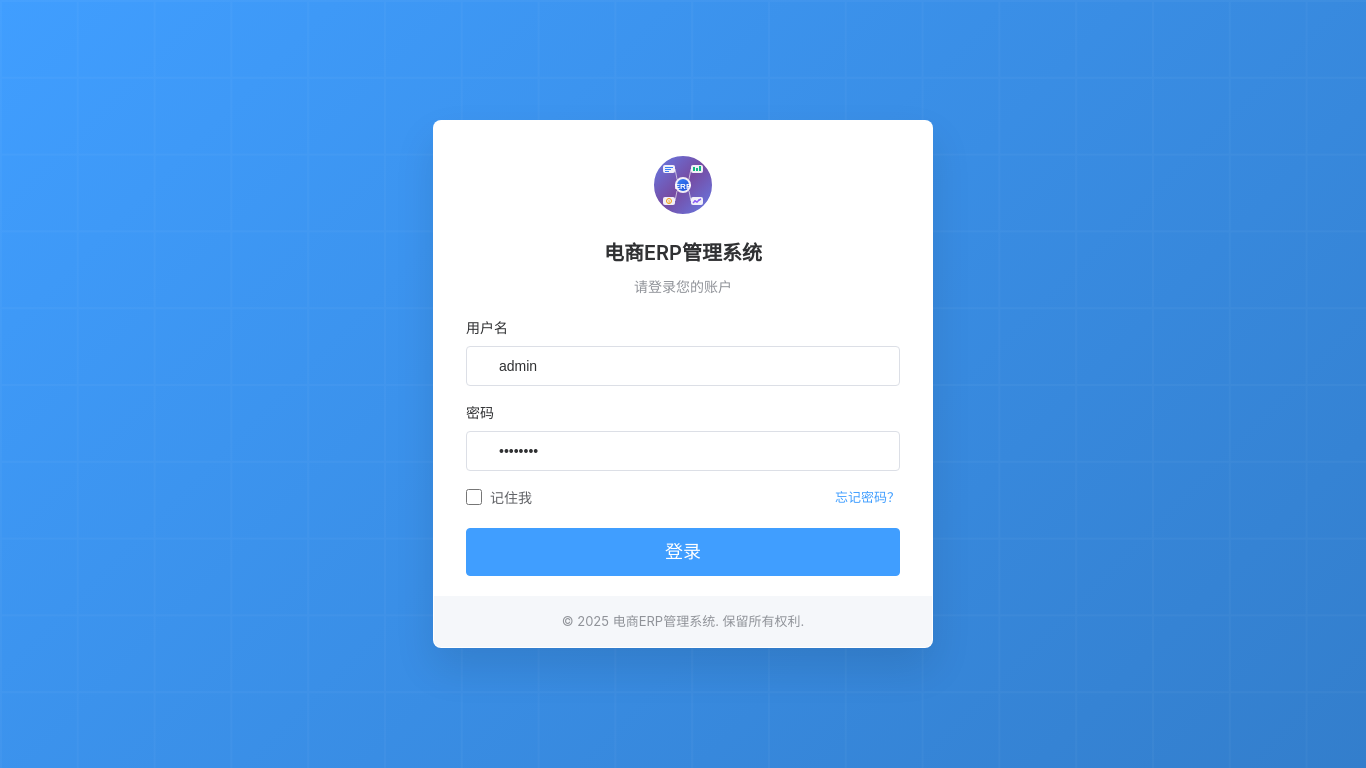
Test: LoginView › 应该验证用户名长度
This screenshot has width=1366, height=768.
# 设置过短的用户名
Step 1. Replace the text in the field named "username" with "ab" → (683, 366), box [466,346,900,386]
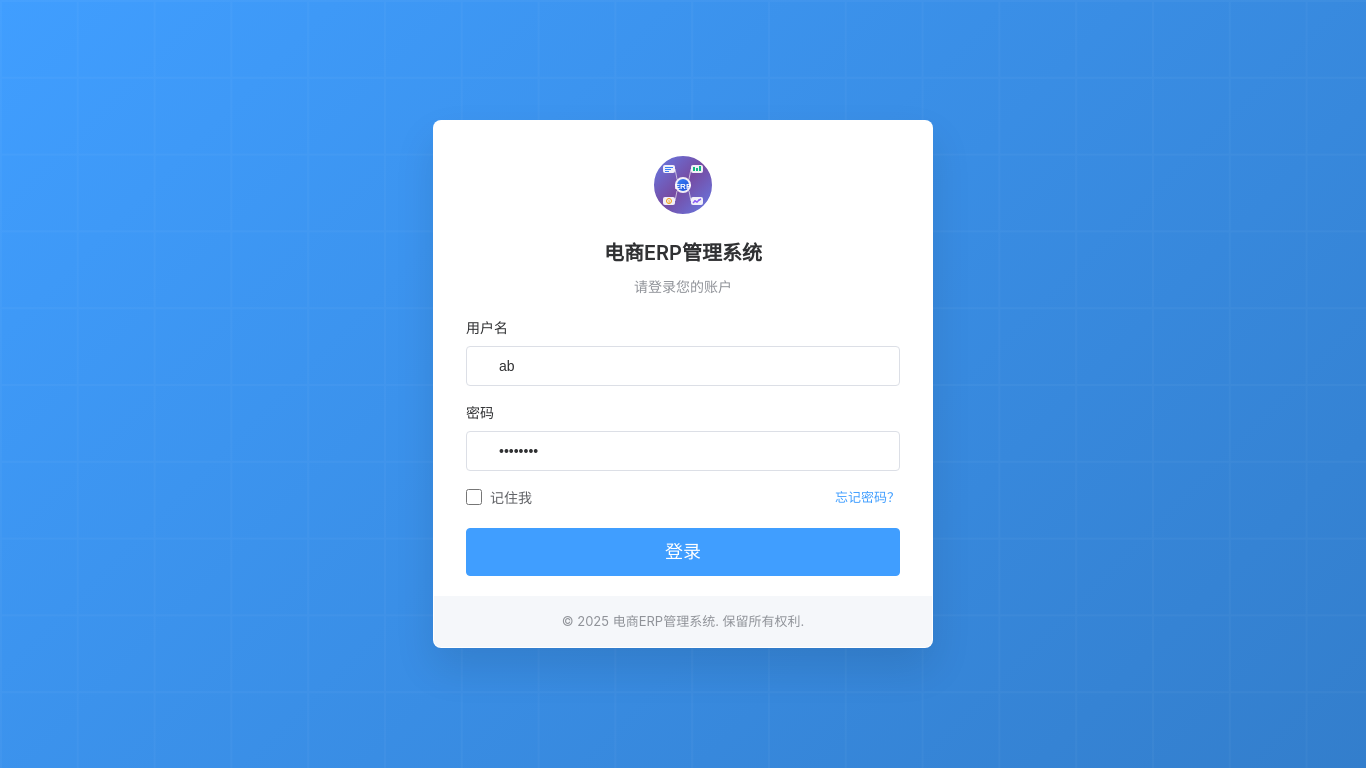
Step 2. Type "password123" into the password field named "password" → (683, 451), box [466,431,900,471]
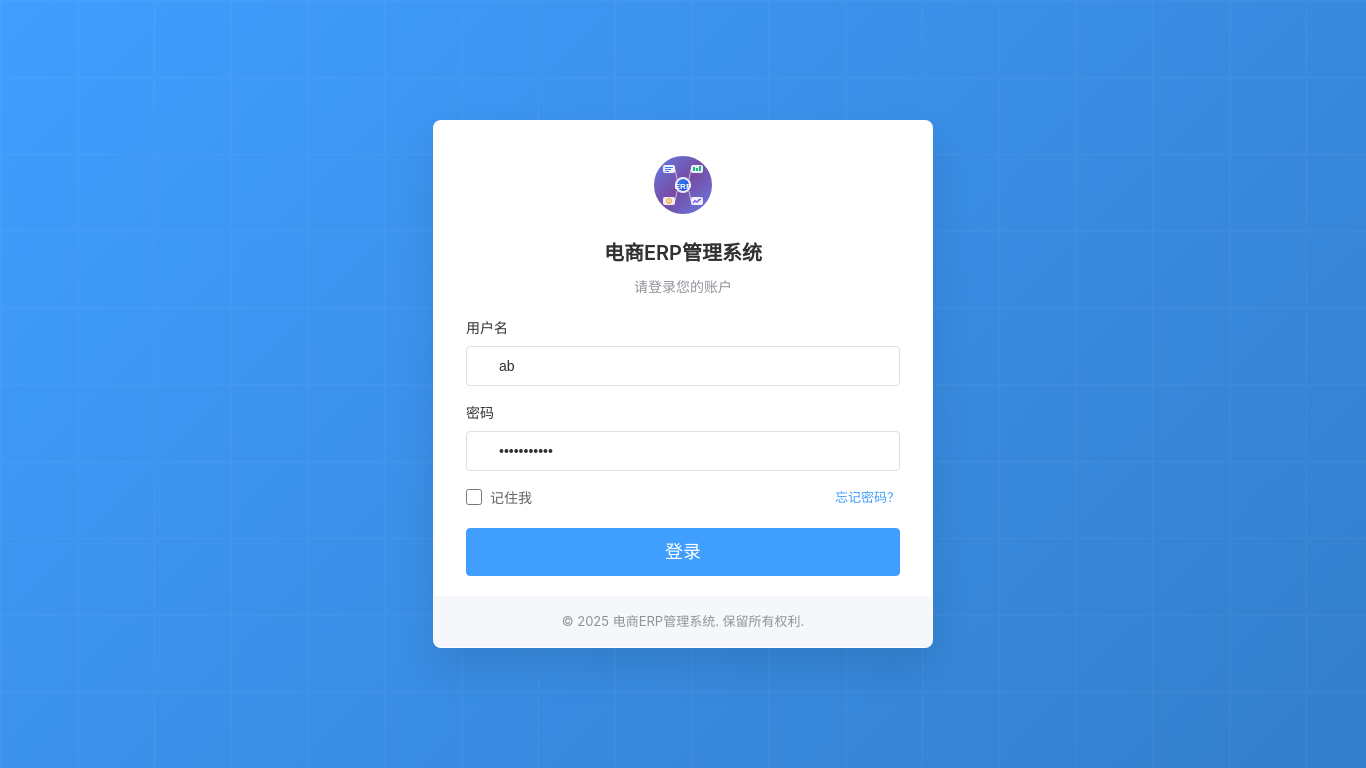
Step 3. Submit the form with class "login-form", box [434,317,932,596]
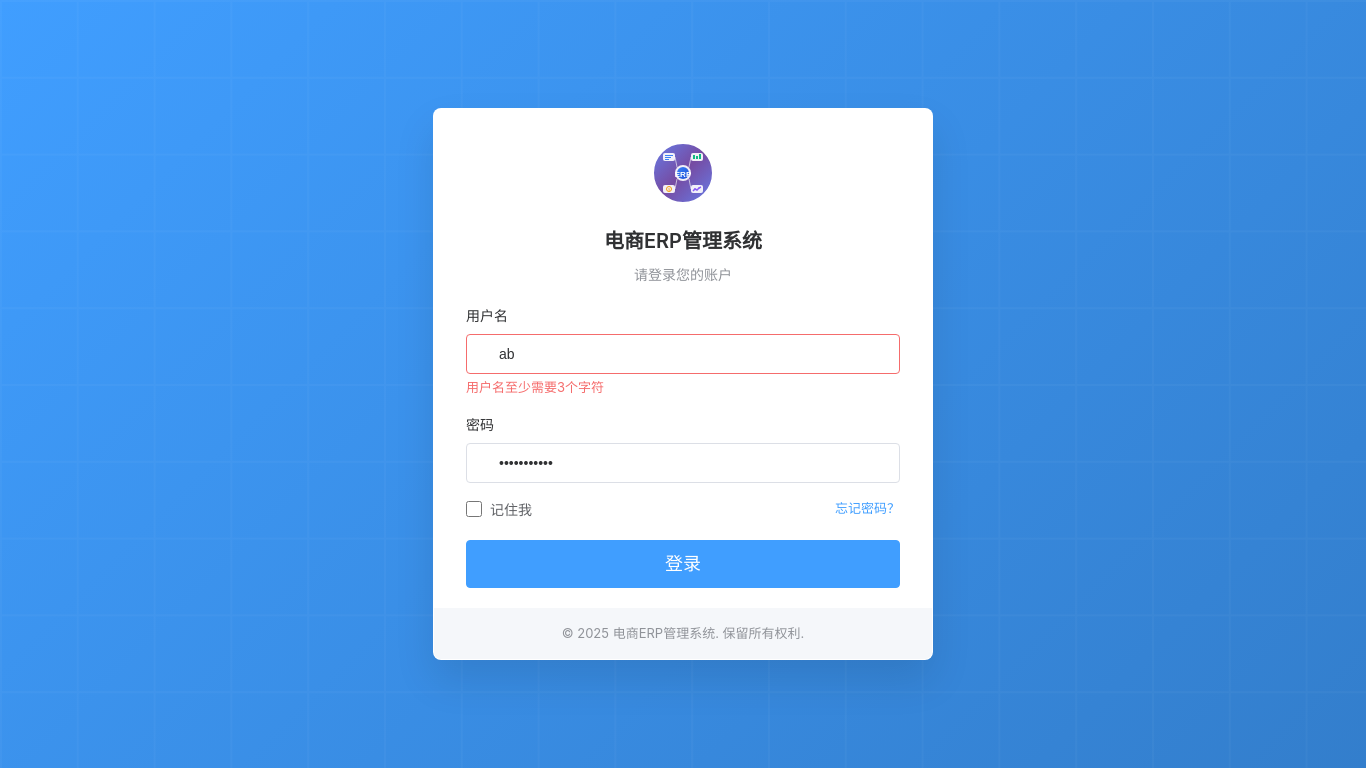
Result: the text with class "show" reads "用户名至少需要3个字符" at [466,379,604,395]
